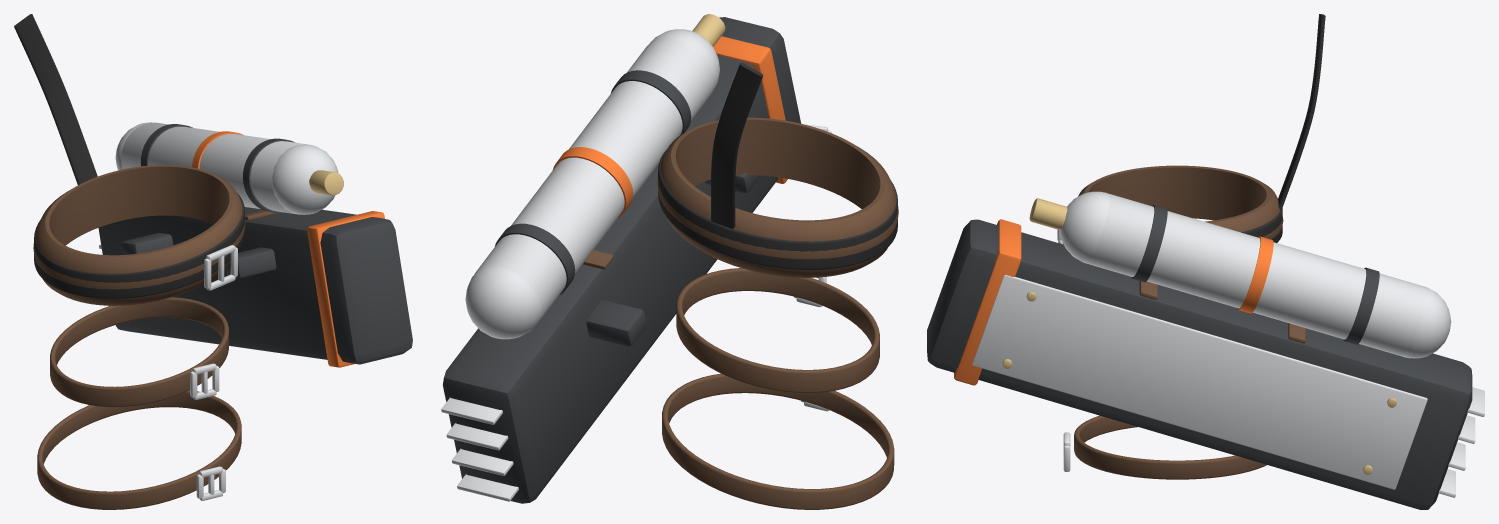
File: SM_Harness_ThighA.fbx
The picture shows the model from 3 angles, left to right: view 1: azimuth 30°, elevation 25°; view 2: azimuth 150°, elevation 25°; view 3: azimuth 270°, elevation 25°; orthographic projection. The views are drawn at different scales.
Parts seen in each view (by area): view 1: SM_Harness_ThighA; view 2: SM_Harness_ThighA; view 3: SM_Harness_ThighA.
Part boxes in pixels (box(x1,y1,x2,y2)): SM_Harness_ThighA: box(14, 14, 412, 509); SM_Harness_ThighA: box(441, 14, 898, 509); SM_Harness_ThighA: box(927, 14, 1484, 509).
Bounding box in the file's own units: 0.2761 × 0.4294 × 0.5004.
